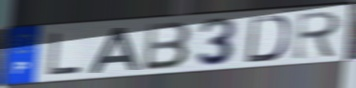3: (195, 16, 241, 68)
A: (87, 25, 142, 75)
B: (141, 20, 193, 72)
D: (243, 14, 290, 64)
L: (46, 31, 84, 76)
R: (291, 9, 344, 62)
